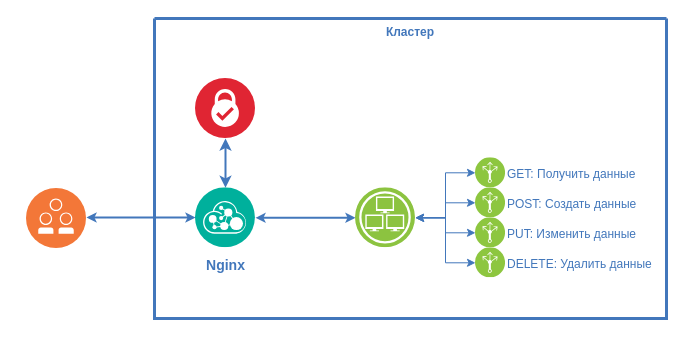
Image size: 685x337. Some labels were removed from this diagram. Here are the shapes that lost their labels. From the top down, the centre of each, then its label:
[225,108]: Open Policy Agent
[56,218]: Пользователь
[385,217]: Приложение
